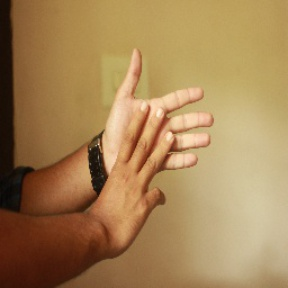M: (94, 45, 220, 218)
